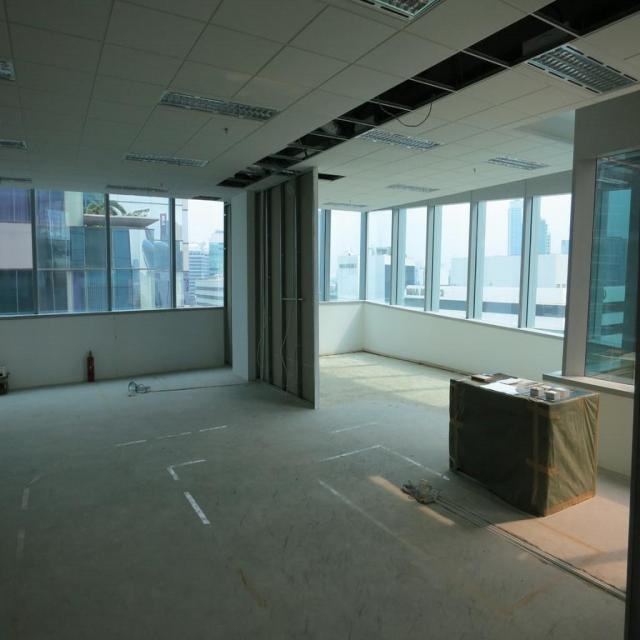table: (436, 377, 594, 515)
